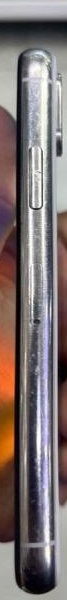scratch: (0, 280, 67, 600)
